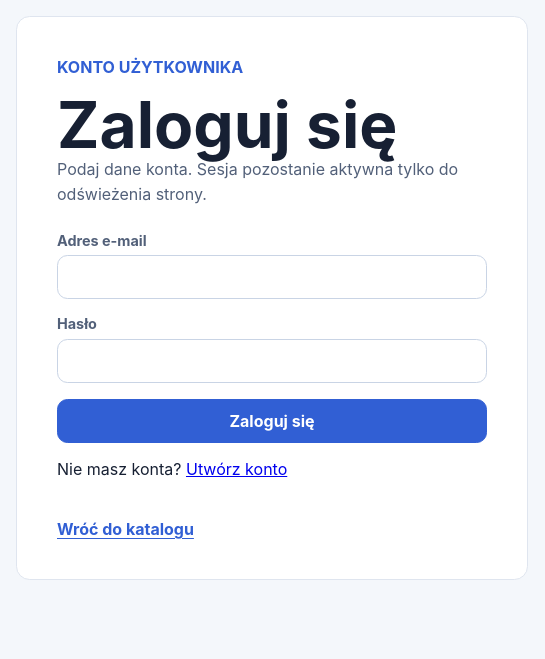
it: LoginPage › shows a neutral 401 error, preserves email and clears password
Type "user@example.com" into the field labelled "Adres e-mail".
click(272, 277); type("user@example.com")  # box [57,255,487,299]
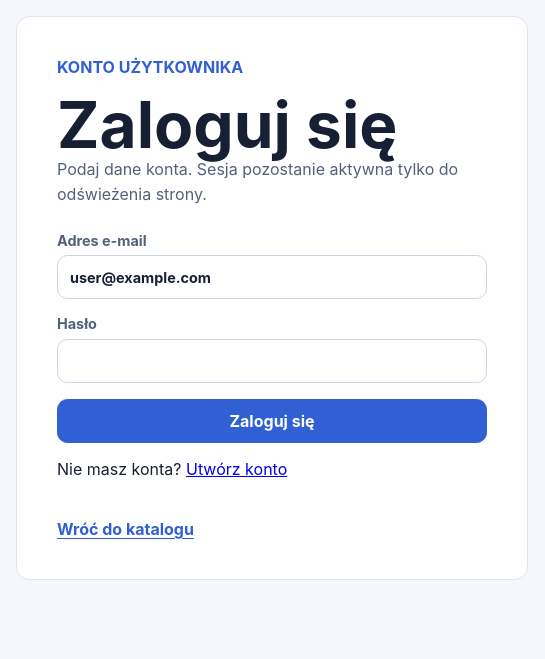
Type "Correct-Horse-42" into the password field labelled "Hasło".
click(272, 361); type("Correct-Horse-42")  # box [57,339,487,383]
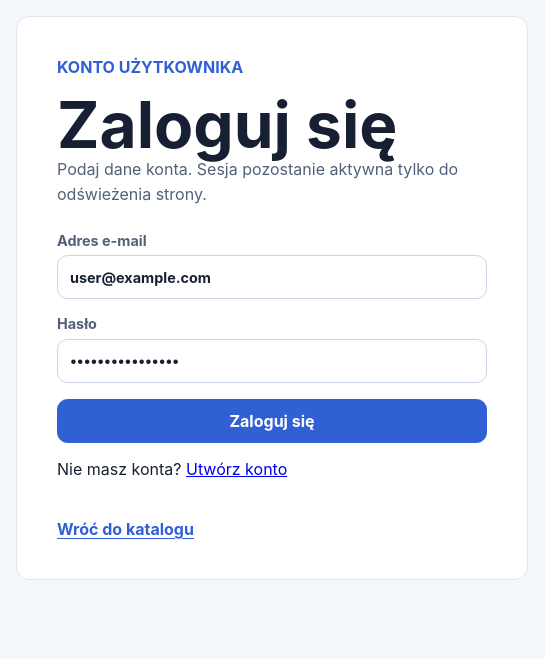
Click the button "Zaloguj się".
click(272, 421)  # box [57,399,487,443]
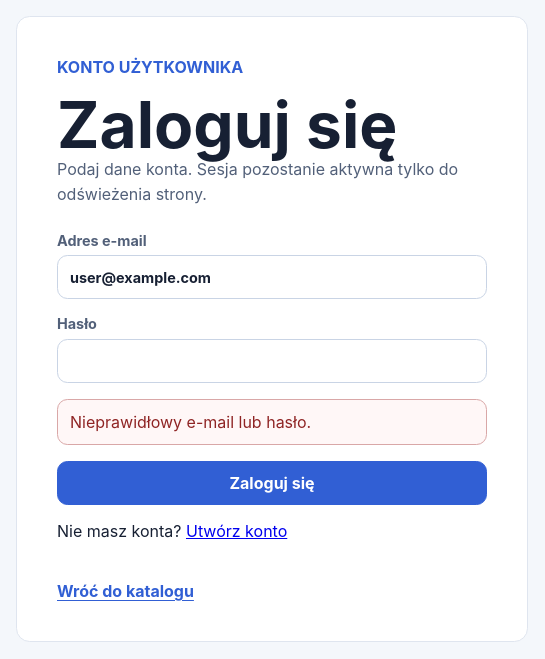
Check: the button "Zaloguj się" is enabled, box [57,461,487,505]
Check: the message reads "Nieprawidłowy e-mail lub hasło.", box [70,412,311,432]
Check: the password field labelled "Hasło" is empty, box [57,339,487,383]
